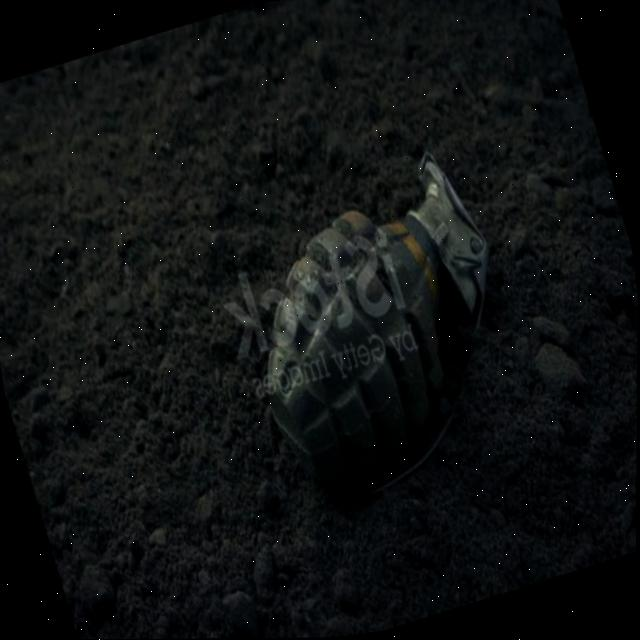grenade: (206, 129, 555, 528)
